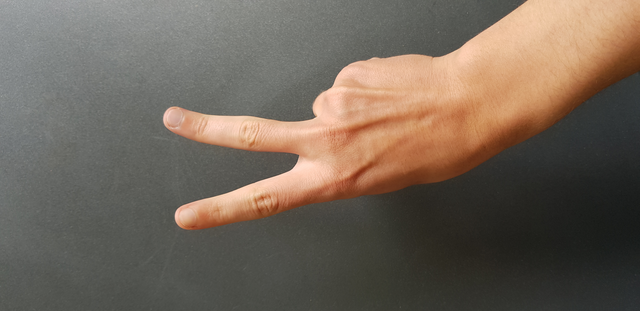Scissors: (121, 47, 486, 243)
